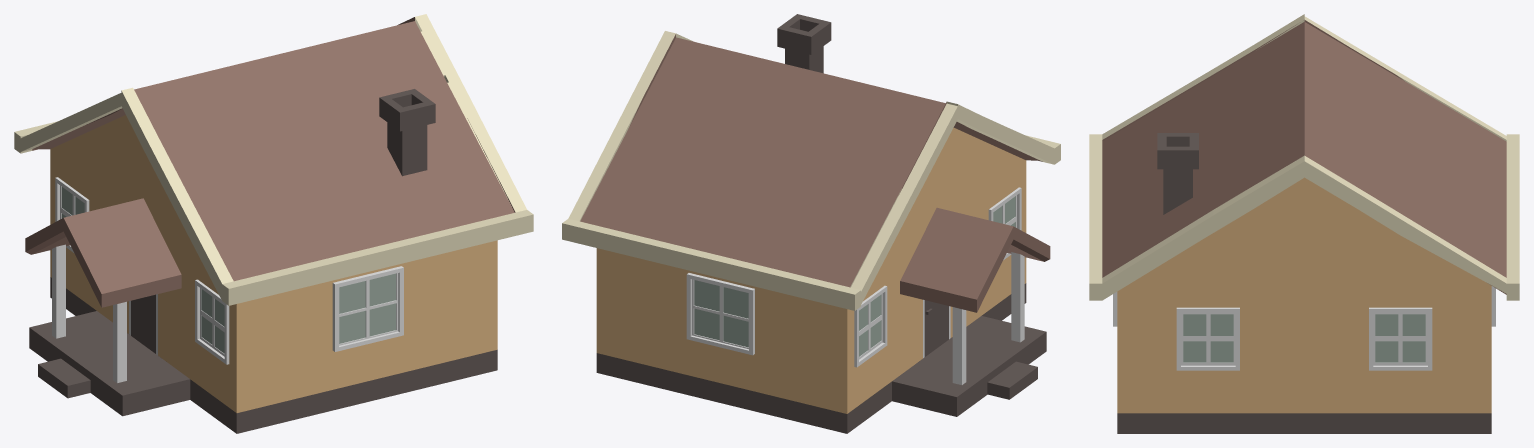
Rendered from house.fbx.
3 renders of one model, left to right at view 1: azimuth 30°, elevation 25°; view 2: azimuth 150°, elevation 25°; view 3: azimuth 270°, elevation 25°, orthographic. The views are drawn at different scales.
Visible parts, largest first — view 1: Cube; view 2: Cube; view 3: Cube.
Boxes of the visible parts, x1,y1,x2,y2 form: Cube: (14,14,533,433); Cube: (562,14,1060,433); Cube: (1089,14,1519,433).
Bounding box in the file's own units: 1469 × 1062 × 1460.
